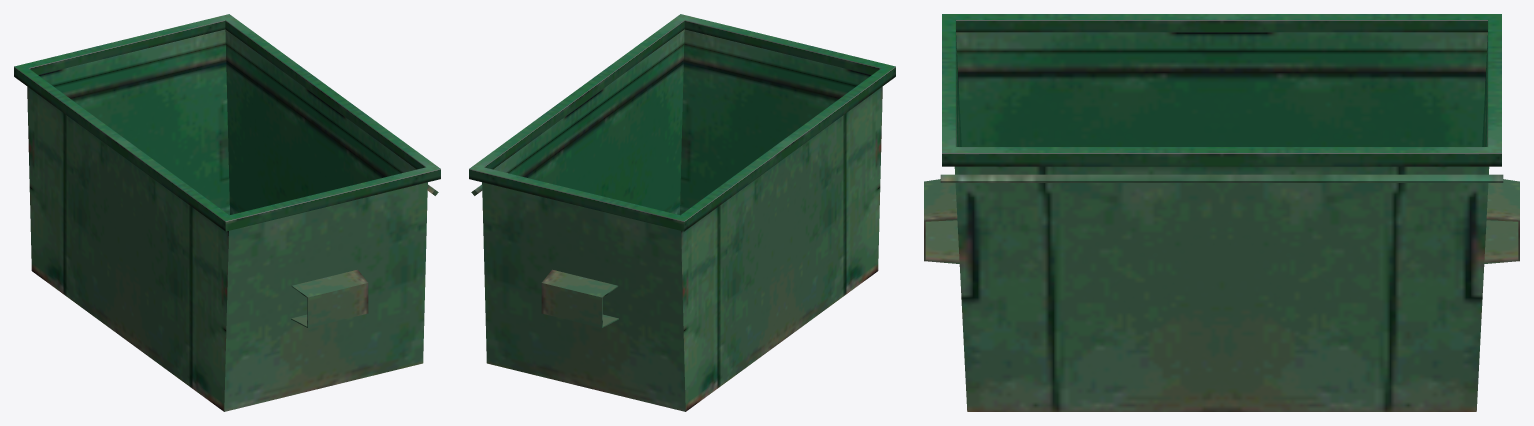
Rendered from Urban_DumpsterEmptyNoLid_Model.fbx.
The picture shows the model from 3 angles, left to right: view 1: azimuth 30°, elevation 25°; view 2: azimuth 150°, elevation 25°; view 3: azimuth 270°, elevation 25°; orthographic projection. The views are drawn at different scales.
Visible parts, largest first — view 1: Urban_DumpsterEmptyNoLid_Mesh; view 2: Urban_DumpsterEmptyNoLid_Mesh; view 3: Urban_DumpsterEmptyNoLid_Mesh.
Boxes of the visible parts, x1=… form: Urban_DumpsterEmptyNoLid_Mesh: x1=14, y1=14, x2=440, y2=411; Urban_DumpsterEmptyNoLid_Mesh: x1=469, y1=14, x2=895, y2=411; Urban_DumpsterEmptyNoLid_Mesh: x1=924, y1=14, x2=1519, y2=411.
Size of the model in its own units: 2.03 by 1.8 by 3.67.
